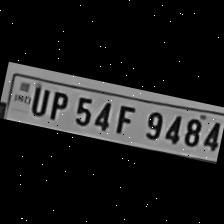4: (160, 108, 185, 144), (90, 96, 116, 130), (199, 115, 223, 151)
5: (66, 90, 96, 127)
8: (179, 111, 203, 147)
9: (136, 104, 166, 140)
F: (108, 98, 138, 135)
P: (44, 85, 71, 122)
U: (26, 82, 50, 117)
